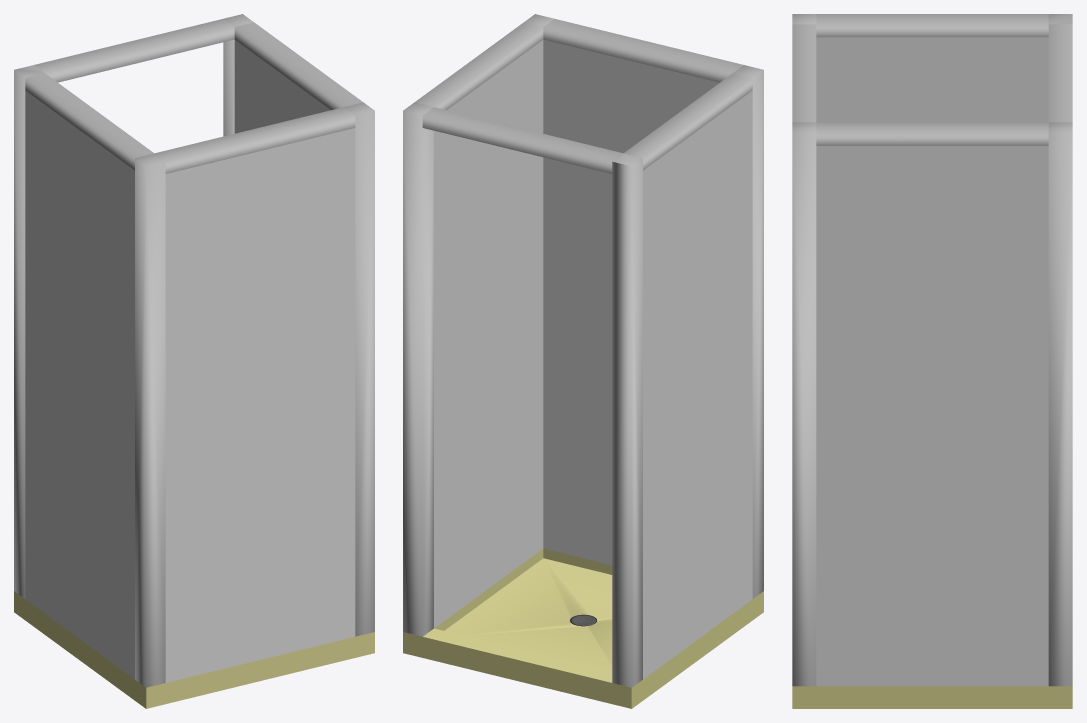
The model's file is ShowerBoxNoDoor.fbx.
3 renders of one model, left to right at view 1: azimuth 30°, elevation 25°; view 2: azimuth 150°, elevation 25°; view 3: azimuth 270°, elevation 25°, orthographic. The views are drawn at different scales.
Parts seen in each view (by area): view 1: Cube.004; view 2: Cube.004; view 3: Cube.004.
Boxes of the visible parts, x1=… form: Cube.004: x1=14, y1=14, x2=374, y2=708; Cube.004: x1=403, y1=14, x2=763, y2=708; Cube.004: x1=792, y1=14, x2=1072, y2=708.
Bounding box in the file's own units: 200 × 453 × 200.
